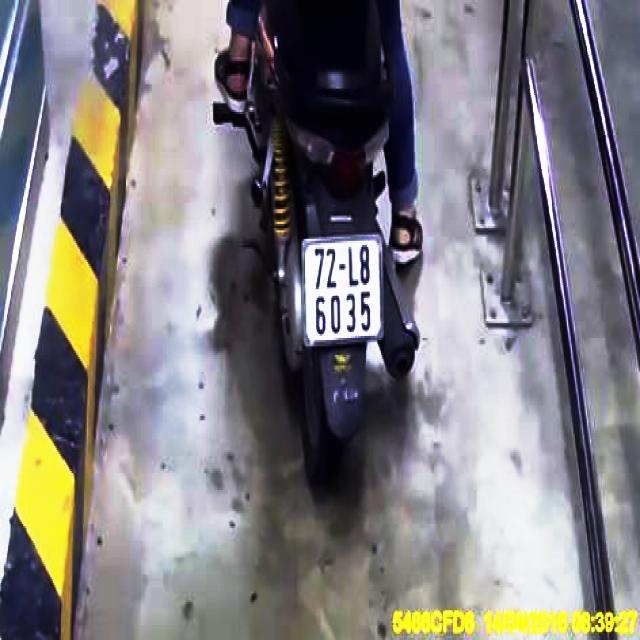license_plate: (304, 239, 382, 337)
